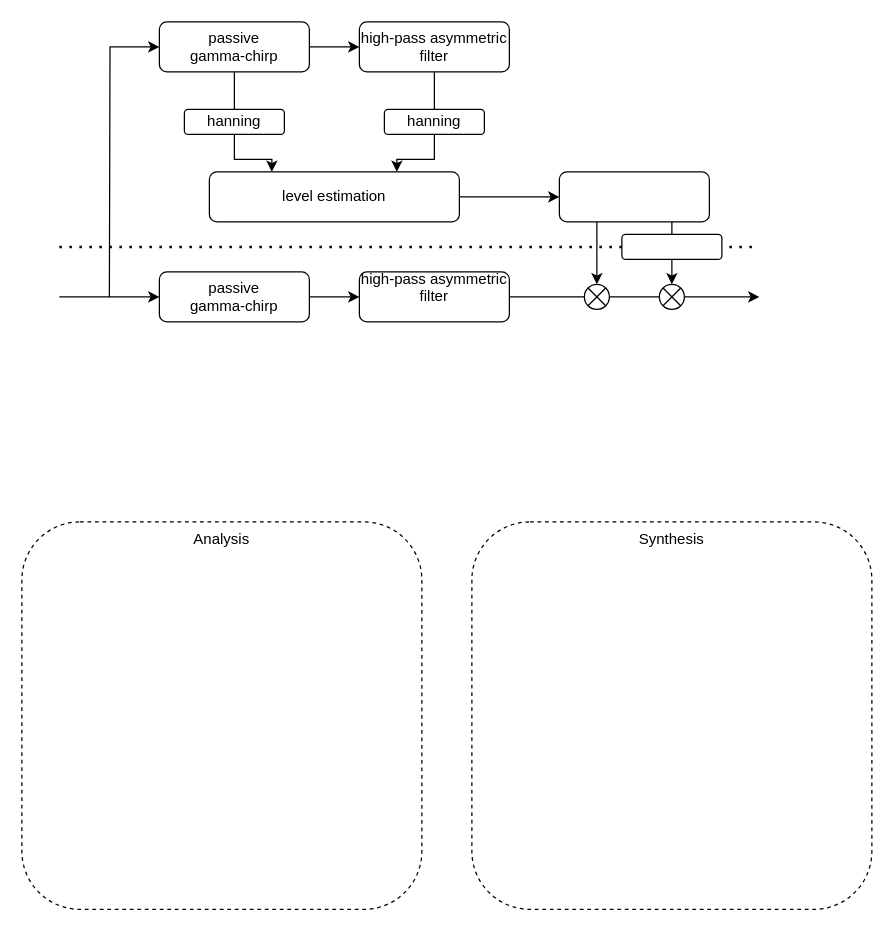
The diagram is 894 pixels wide and 931 high, and some of its shapes have lost their labels. Each missing label, with the centre of its shape:
"active gain control" goes at (x=633, y=196).
"passive loss" goes at (x=671, y=246).
